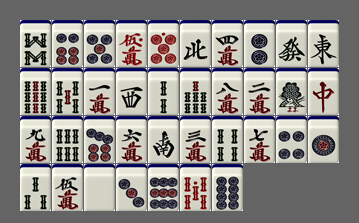0m: (116, 20, 147, 67)
0p: (148, 20, 179, 67)
0s: (180, 164, 211, 211)
1m: (84, 68, 115, 115)
1p: (308, 116, 339, 163)
1s: (276, 68, 307, 115)
1z: (308, 20, 339, 67)
2m: (244, 68, 275, 115)
2p: (244, 20, 275, 67)
2s: (148, 68, 179, 115)
2z: (148, 116, 179, 163)
3m: (180, 116, 211, 163)
3p: (116, 164, 147, 211)
3s: (20, 164, 51, 211)
3z: (116, 68, 147, 115)
4m: (212, 20, 243, 67)
4p: (276, 116, 307, 163)
4s: (212, 116, 243, 163)
4z: (180, 20, 211, 67)
5m: (52, 164, 83, 211)
5p: (84, 20, 115, 67)
5s: (52, 68, 83, 115)
5z: (84, 164, 115, 211)
6m: (116, 116, 147, 163)
6p: (52, 20, 83, 67)
6s: (52, 116, 83, 163)
6z: (276, 20, 307, 67)
7m: (244, 116, 275, 163)
7p: (84, 116, 115, 163)
7s: (180, 68, 211, 115)
7z: (308, 68, 339, 115)
8m: (212, 68, 243, 115)
8p: (212, 164, 243, 211)
8s: (20, 20, 51, 67)
9m: (20, 116, 51, 163)
9p: (148, 164, 179, 211)
9s: (20, 68, 51, 115)
